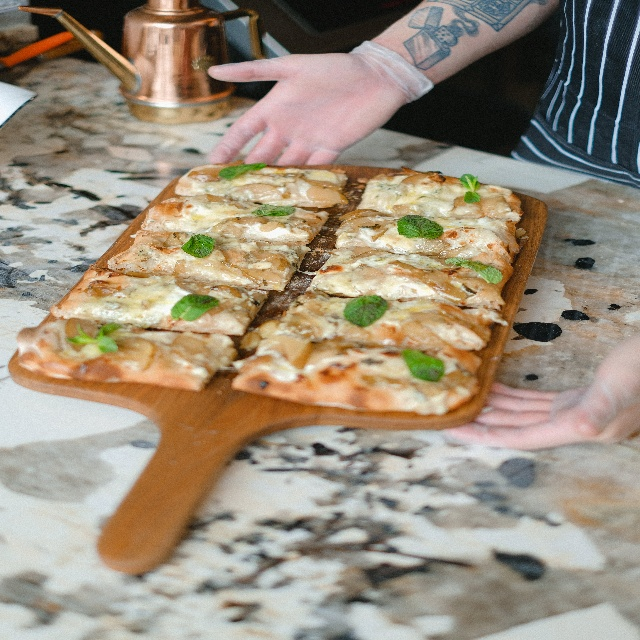Guantes: (444, 333, 640, 453)
Sin_guantes: (197, 37, 435, 167), (204, 48, 405, 167), (446, 334, 639, 447)
